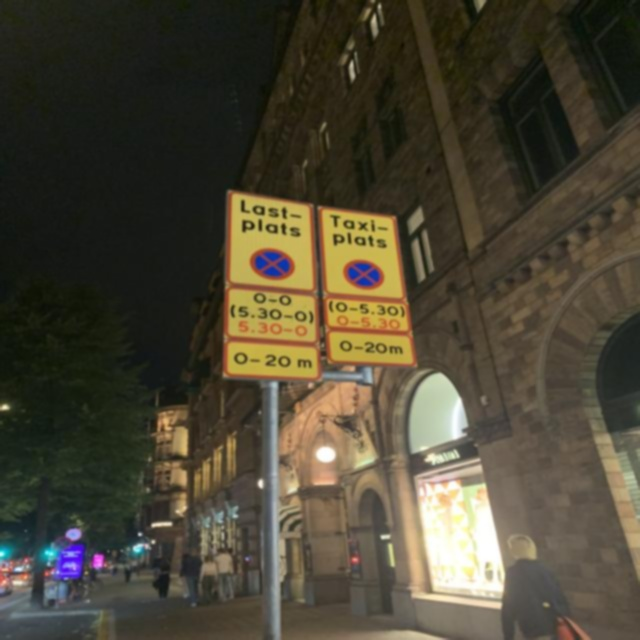lastplats: (224, 190, 318, 293)
